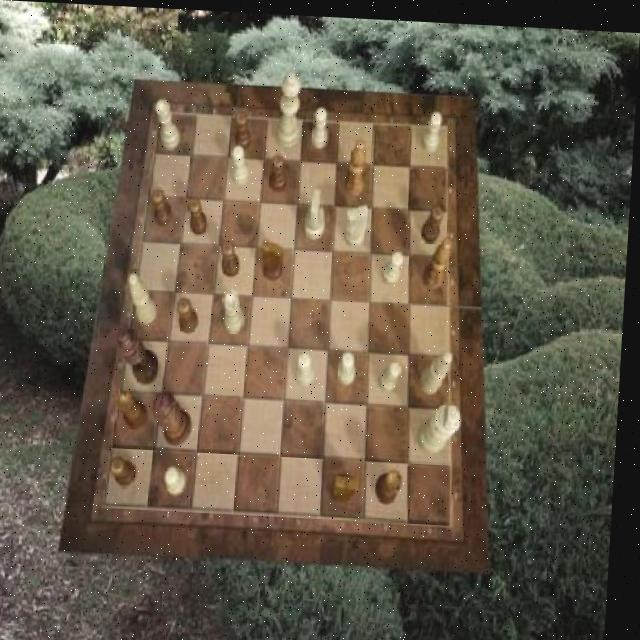bishop: (425, 232, 455, 285), (346, 135, 368, 193)
black-bishop: (118, 323, 165, 384)
black-king: (262, 236, 287, 278), (336, 470, 365, 502)
black-knight: (152, 186, 176, 226), (115, 455, 144, 487), (178, 296, 202, 333), (190, 194, 211, 233), (424, 201, 445, 239), (233, 110, 252, 150), (222, 238, 243, 274), (270, 151, 289, 190)
black-pawn: (154, 389, 198, 446)
black-queen: (120, 389, 153, 428), (380, 464, 408, 501)
black-rook: (131, 270, 163, 323), (424, 345, 456, 391)
white-bishop: (420, 396, 465, 450)
white-king: (307, 185, 329, 237), (346, 201, 371, 245)
white-knight: (231, 144, 252, 185), (382, 355, 406, 390), (423, 107, 442, 149), (385, 245, 406, 281), (313, 104, 331, 146), (169, 463, 193, 493), (341, 347, 360, 382), (301, 348, 320, 383)
white-pawn: (277, 69, 303, 147)
white-queen: (153, 98, 182, 148), (224, 286, 249, 330)
